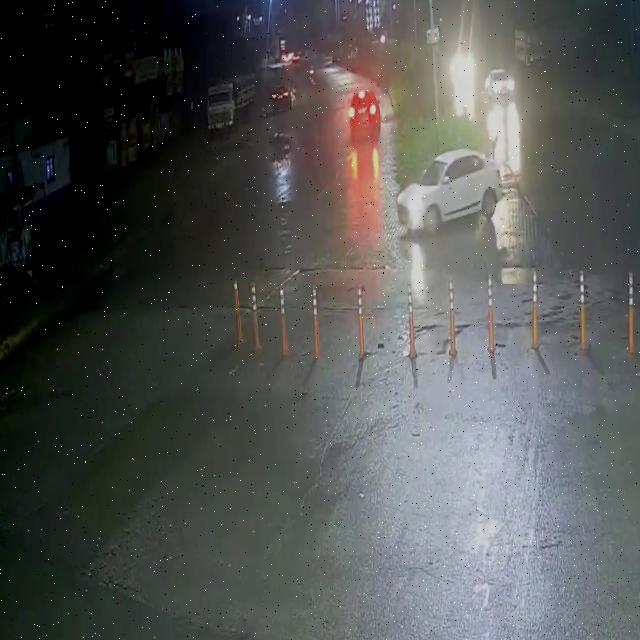accident: (262, 117, 299, 187)
